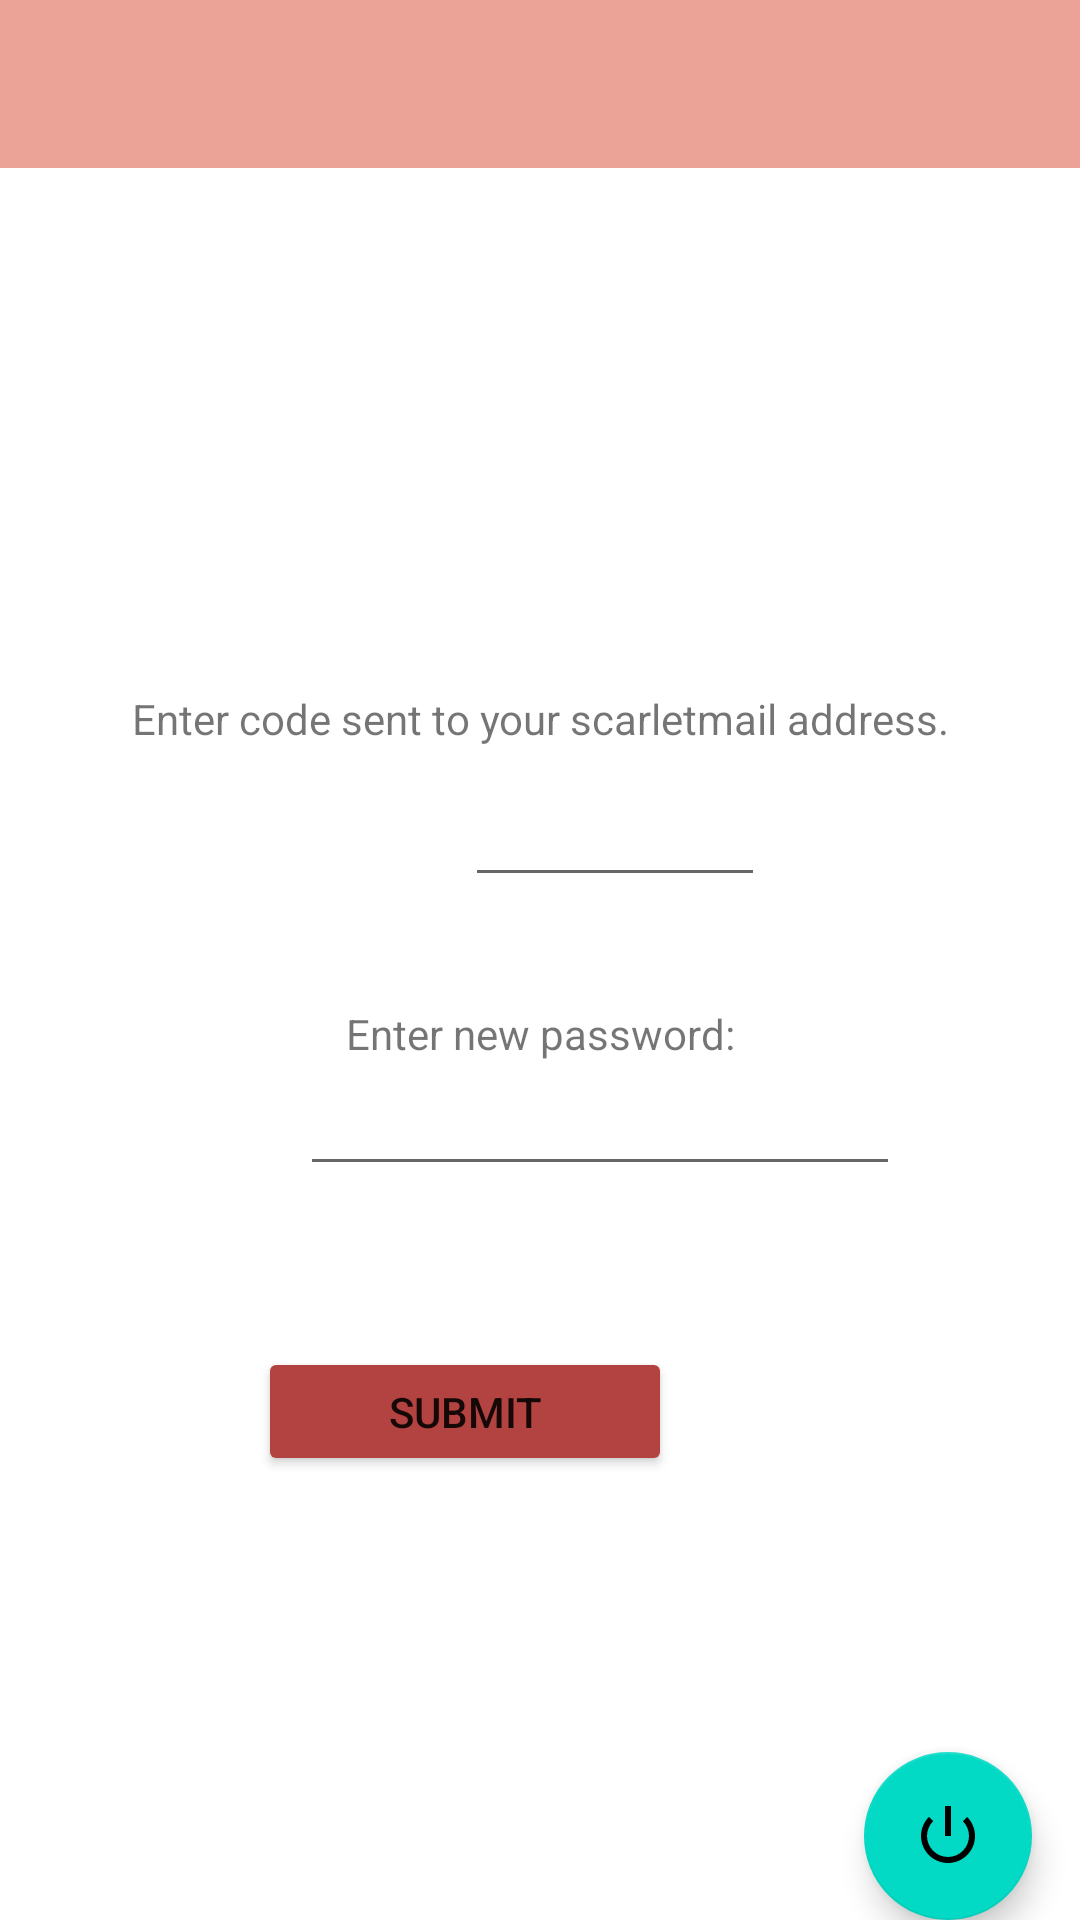

Icon click points for this 1080px x 1920px phone screenshot, format [x,y]:
lock power off: [948,1836]
